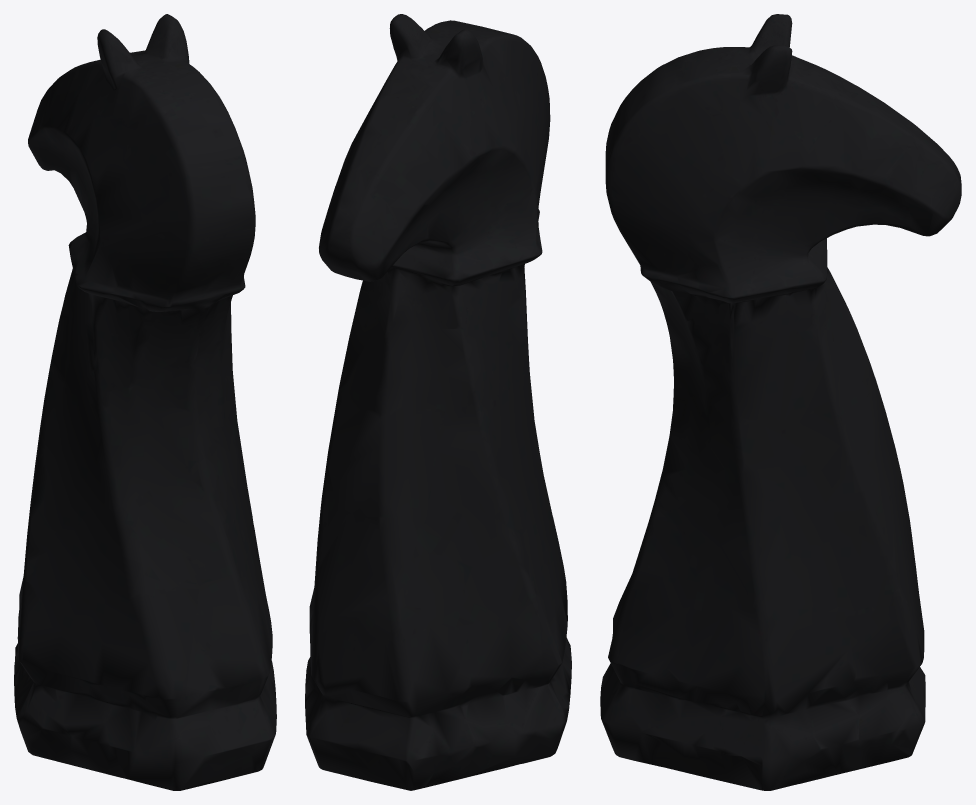
The model's file is knight-black.glb.
3 renders of one model, left to right at view 1: azimuth 30°, elevation 25°; view 2: azimuth 150°, elevation 25°; view 3: azimuth 270°, elevation 25°, orthographic.
Bounding box in the file's own units: 0.4703 × 1.25 × 0.5803.
Materials: 1 (1 with a texture image).
